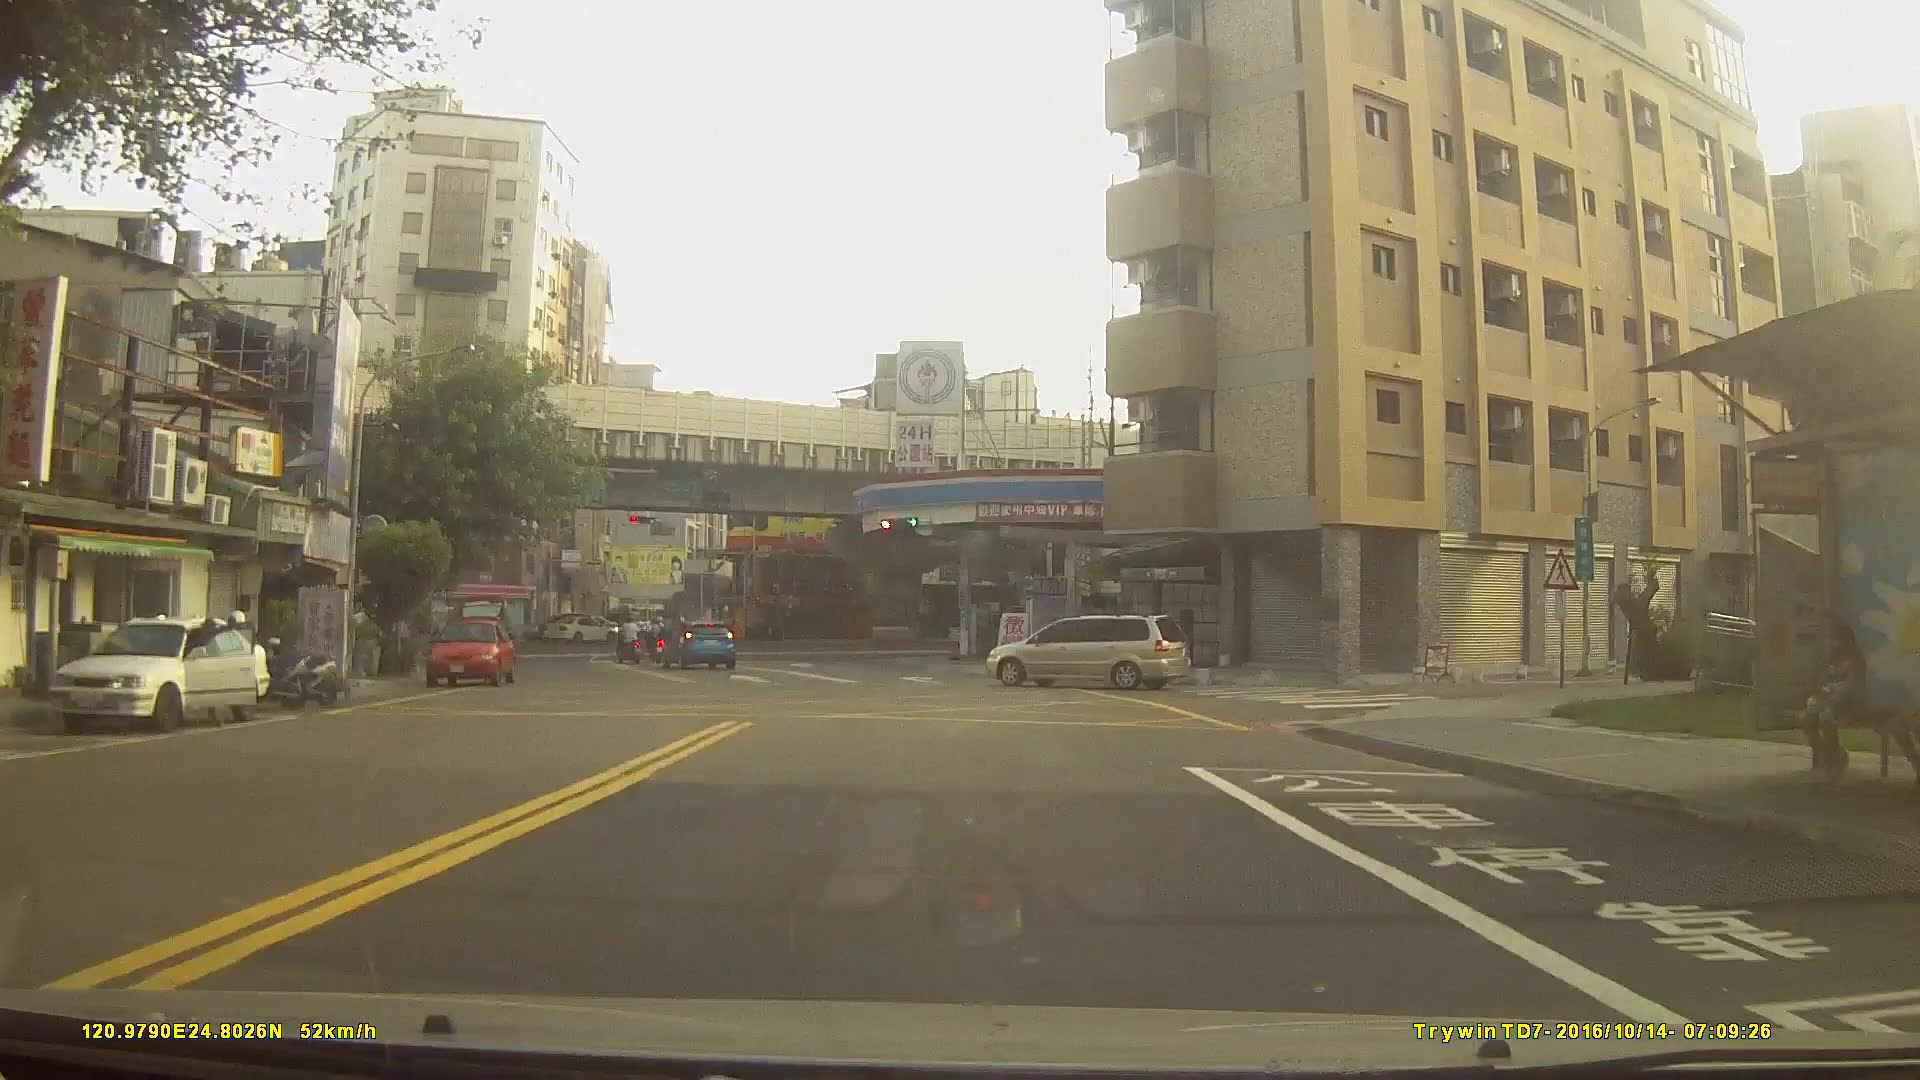pedestrian: (1796, 619, 1875, 787)
rider: (611, 614, 642, 666)
vehicle: (50, 617, 272, 735), (983, 614, 1191, 689), (424, 618, 517, 687), (657, 621, 736, 671), (543, 613, 618, 644), (521, 610, 591, 641)
